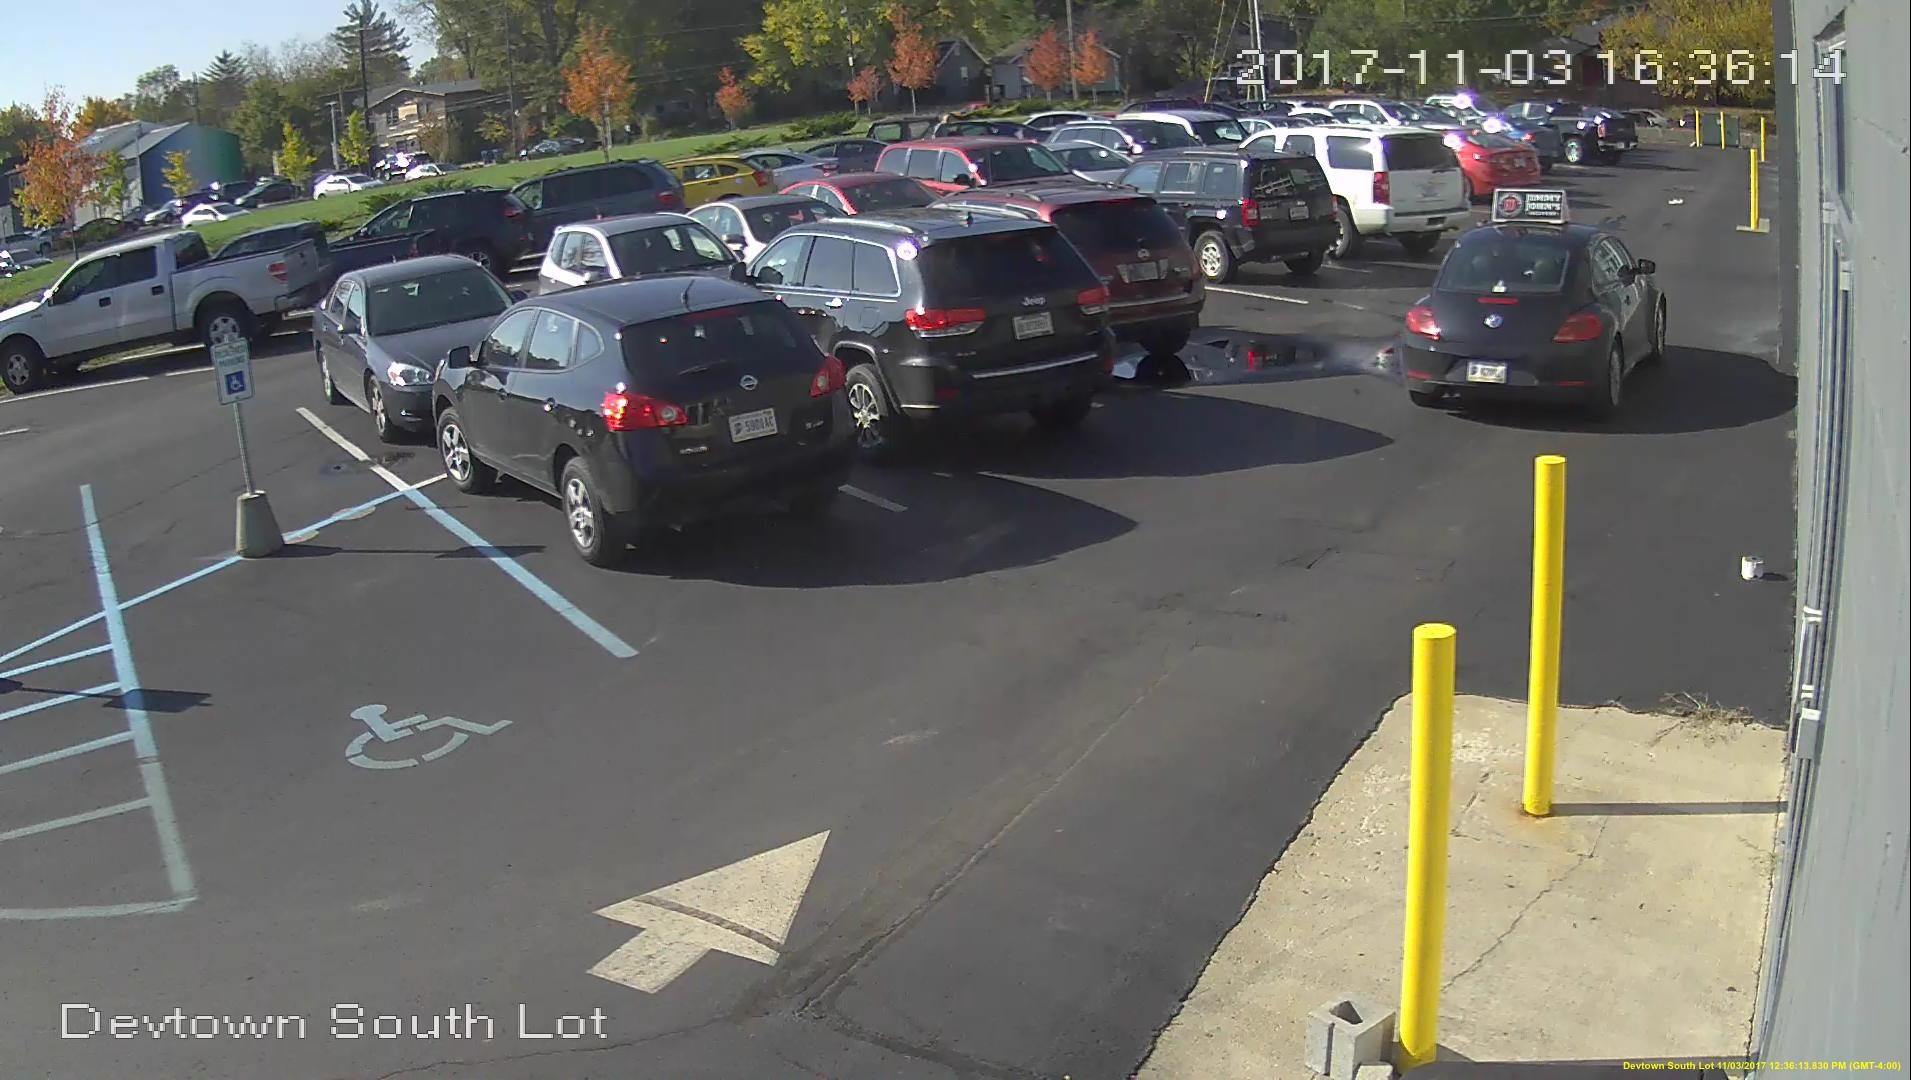jimmy_johns: (1487, 185, 1570, 222)
